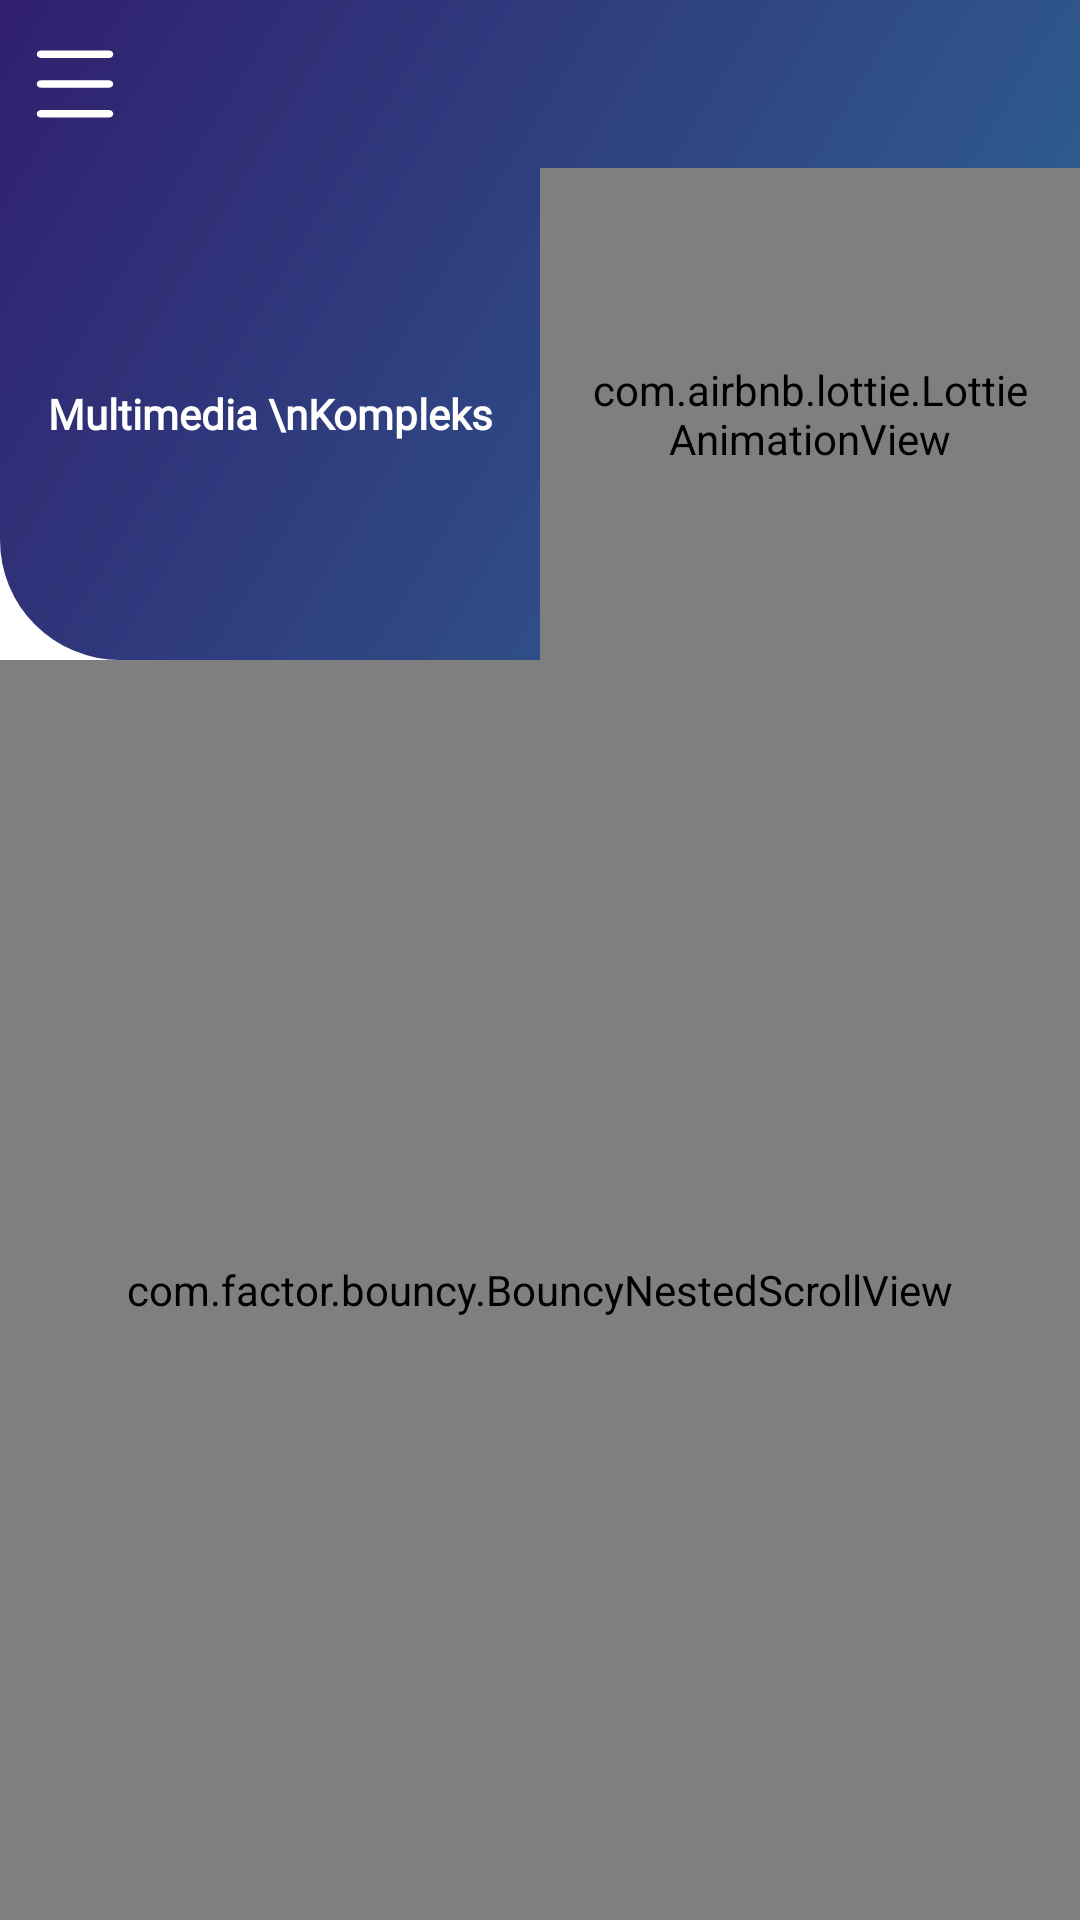

Where icons sit on this 1080px x 1920px app screen, as (x1, y1, x2, y2):
menu: (36, 50, 114, 118)
